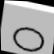no answer: (5, 21, 47, 54)
